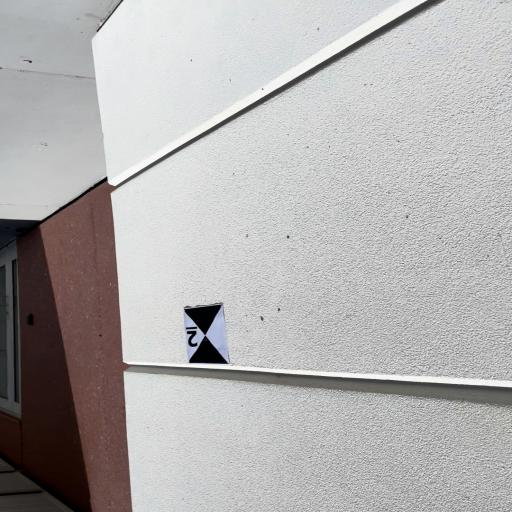target2: (184, 303, 231, 362)
